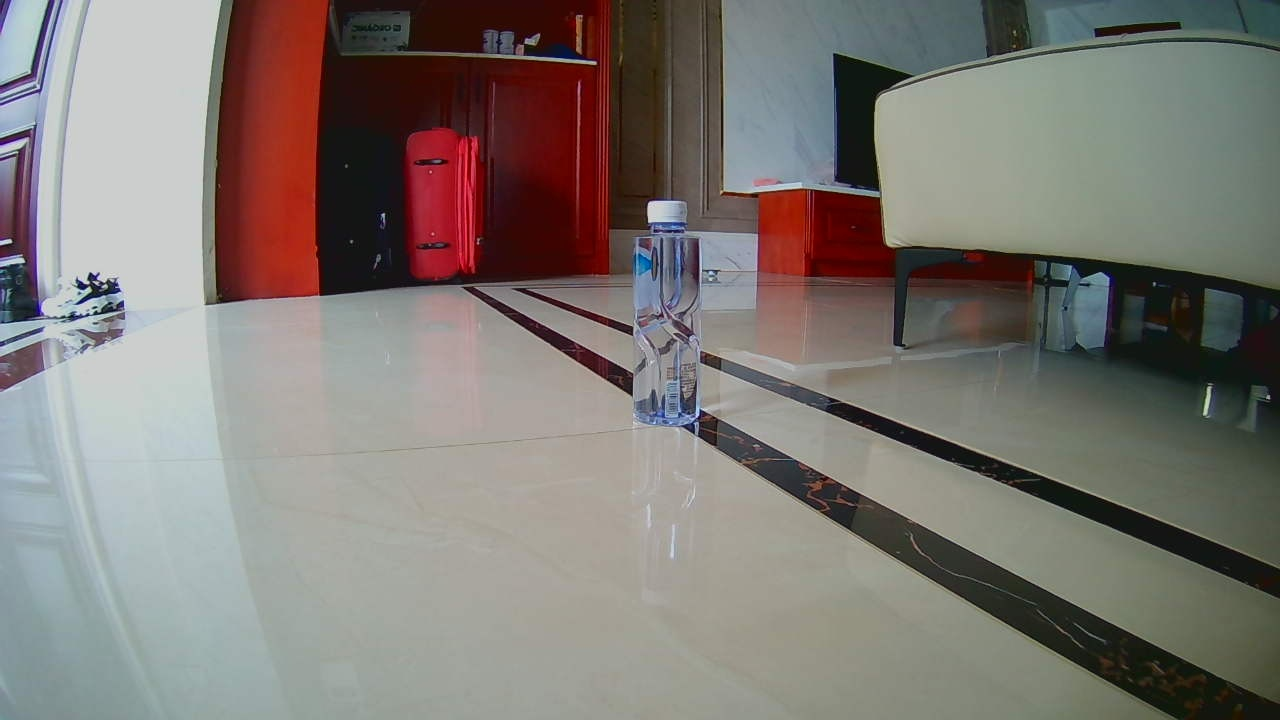water: (633, 198, 700, 425)
